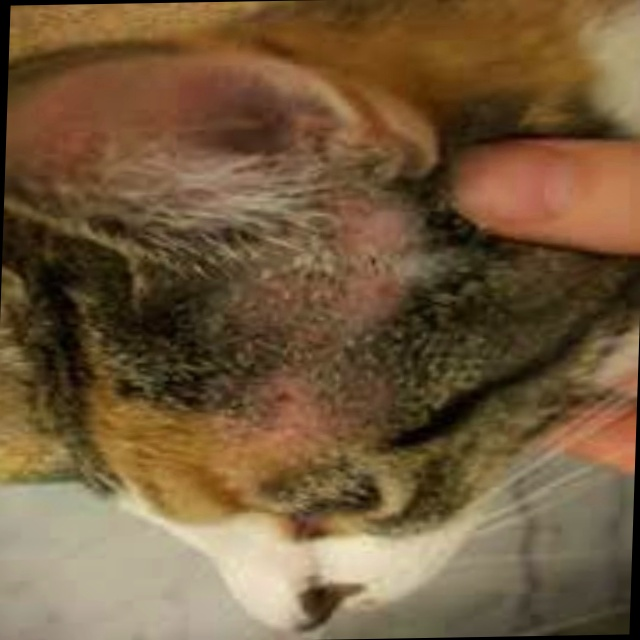ringworm: (239, 349, 336, 477), (349, 234, 403, 307)
